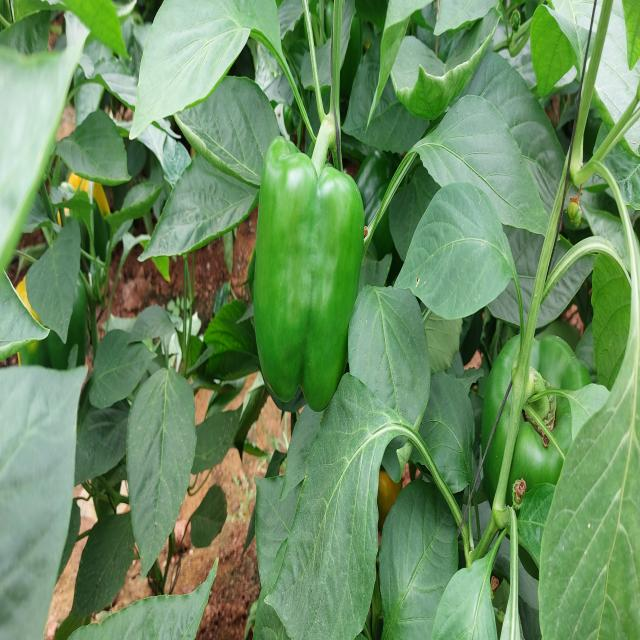Green--Not-ready-to-harvest: (259, 132, 365, 410), (483, 304, 591, 548)
